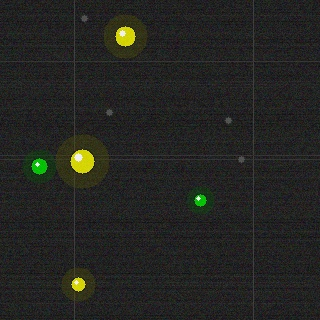green_normal: (29, 156, 49, 176), (192, 192, 208, 208)
yellow_warning: (68, 147, 96, 175), (113, 24, 137, 48), (69, 275, 87, 293)
